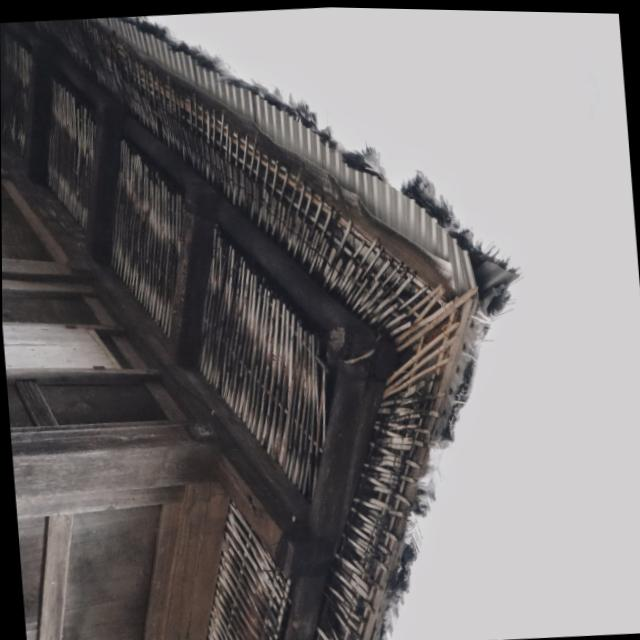Tembok Bangunan: (1, 139, 237, 640)
